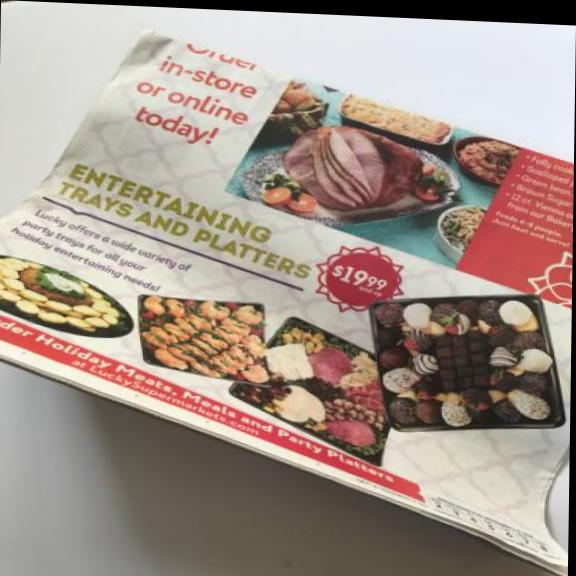Kertas: (0, 24, 575, 576)
